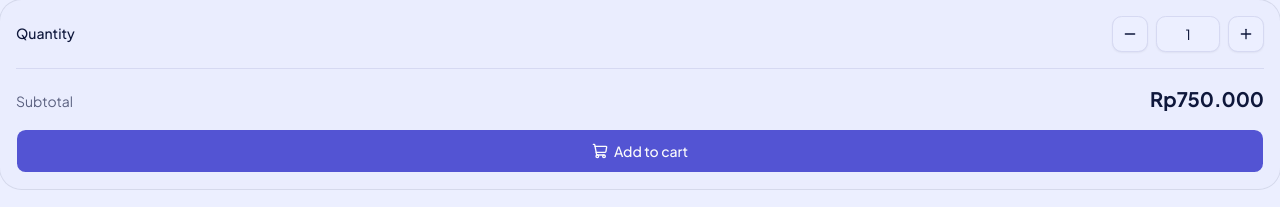
Test: PurchasePanel - quantity › tombol kurang menurunkan quantity
Click the button named "Increase quantity".
click(1246, 34)  # box left=1228, top=16, right=1264, bottom=52
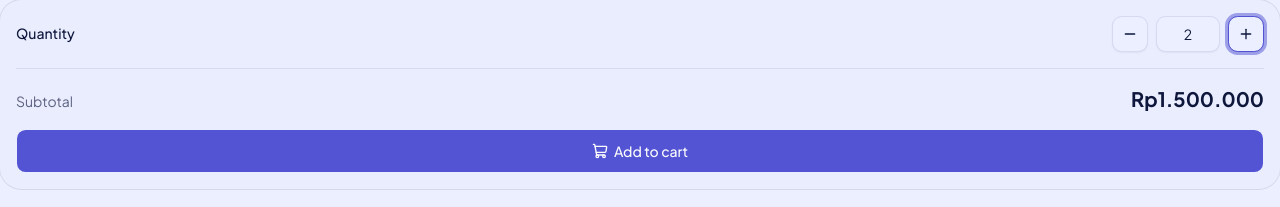
Click the button named "Increase quantity".
click(1246, 34)  # box left=1228, top=16, right=1264, bottom=52
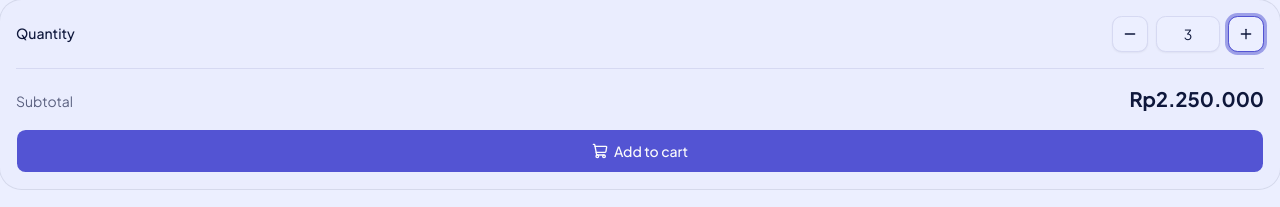
Click the button named "Decrease quantity".
click(1130, 34)  # box left=1112, top=16, right=1148, bottom=52
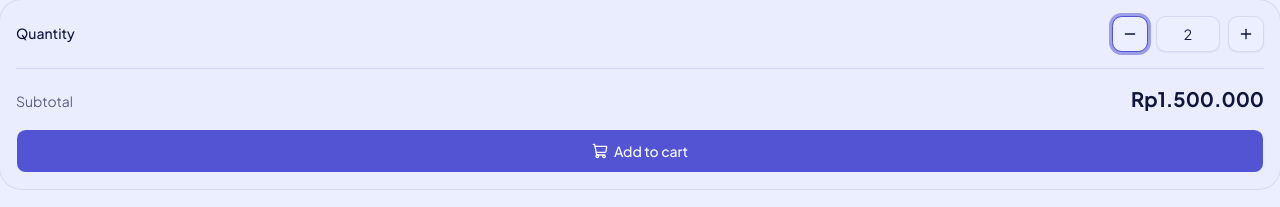
Expected: the number field labelled "Quantity" holds "2", left=1156, top=16, right=1220, bottom=52
